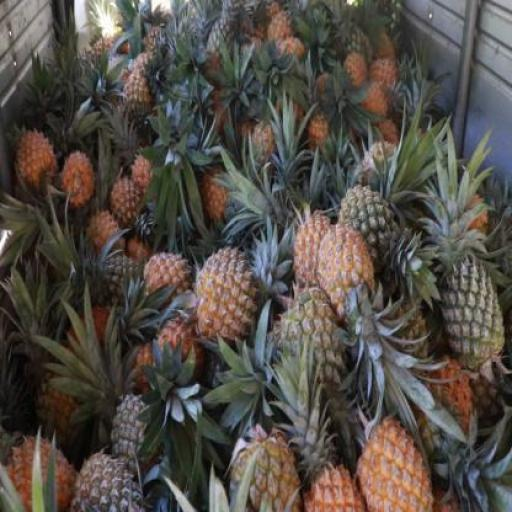------------------------------: (273, 293, 341, 393), (337, 189, 401, 287), (35, 376, 86, 452), (118, 71, 150, 130)
Pineapple - v8 v1: (356, 422, 434, 511), (317, 229, 380, 331), (196, 248, 259, 344), (4, 432, 74, 512), (294, 218, 342, 306), (153, 321, 200, 400), (14, 129, 54, 189), (142, 249, 184, 306), (107, 179, 145, 233), (61, 147, 92, 206)
